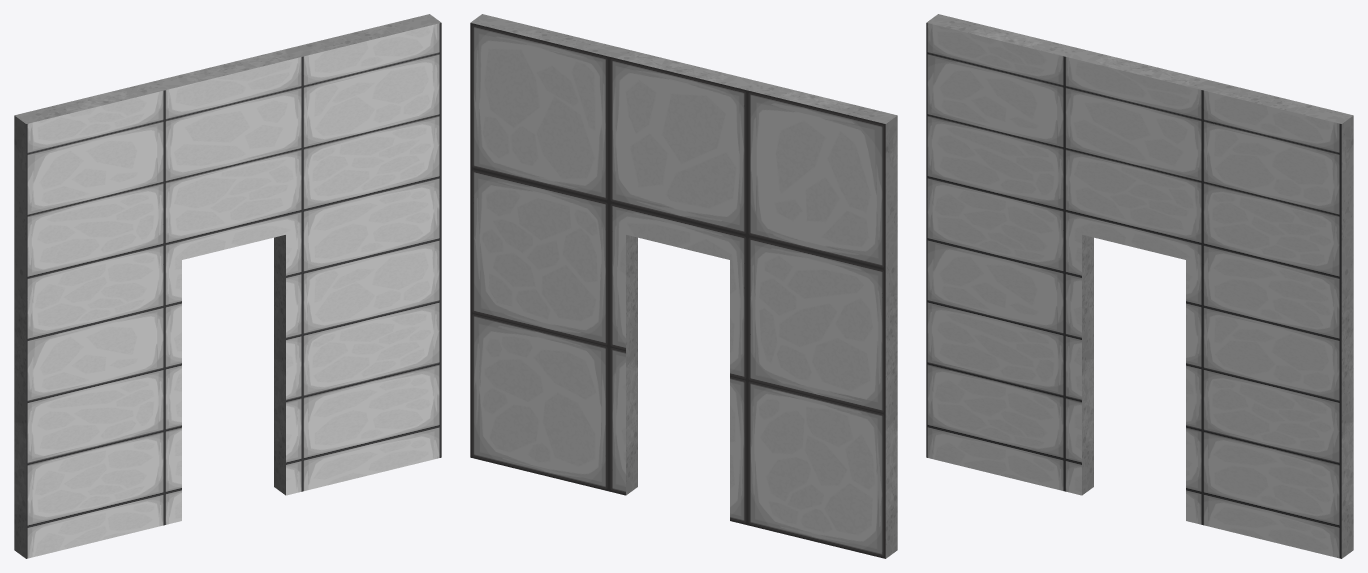
Rendered from SM_Wall_Door_A.fbx.
The picture shows the model from 3 angles, left to right: view 1: azimuth 30°, elevation 25°; view 2: azimuth 150°, elevation 25°; view 3: azimuth 330°, elevation 25°; orthographic projection.
Visible parts, largest first — view 1: SM_Wall_Door_A; view 2: SM_Wall_Door_A; view 3: SM_Wall_Door_A.
Boxes of the visible parts, box(x1,y1,x2,y2) form: SM_Wall_Door_A: box(14, 14, 441, 558); SM_Wall_Door_A: box(470, 14, 897, 558); SM_Wall_Door_A: box(926, 14, 1353, 558).
Bounding box in the file's own units: 400 × 400 × 20.
